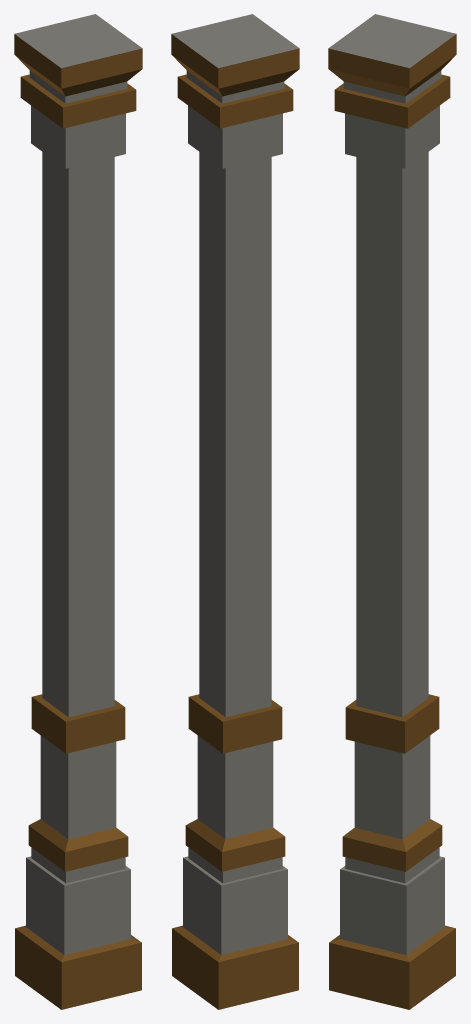
File: wallDividePillar.fbx
3 views of the same model, side by side, from view 1: azimuth 30°, elevation 25°; view 2: azimuth 210°, elevation 25°; view 3: azimuth 330°, elevation 25° (orthographic).
Parts seen in each view (by area): view 1: Wall Pillar Divider; view 2: Wall Pillar Divider; view 3: Wall Pillar Divider.
Boxes of the visible parts, left/top/right/bottom form: Wall Pillar Divider: left=14, top=14, right=142, bottom=1009; Wall Pillar Divider: left=171, top=14, right=299, bottom=1009; Wall Pillar Divider: left=328, top=14, right=456, bottom=1009.
Size of the model in its own units: 37.01 by 37.01 by 409.
